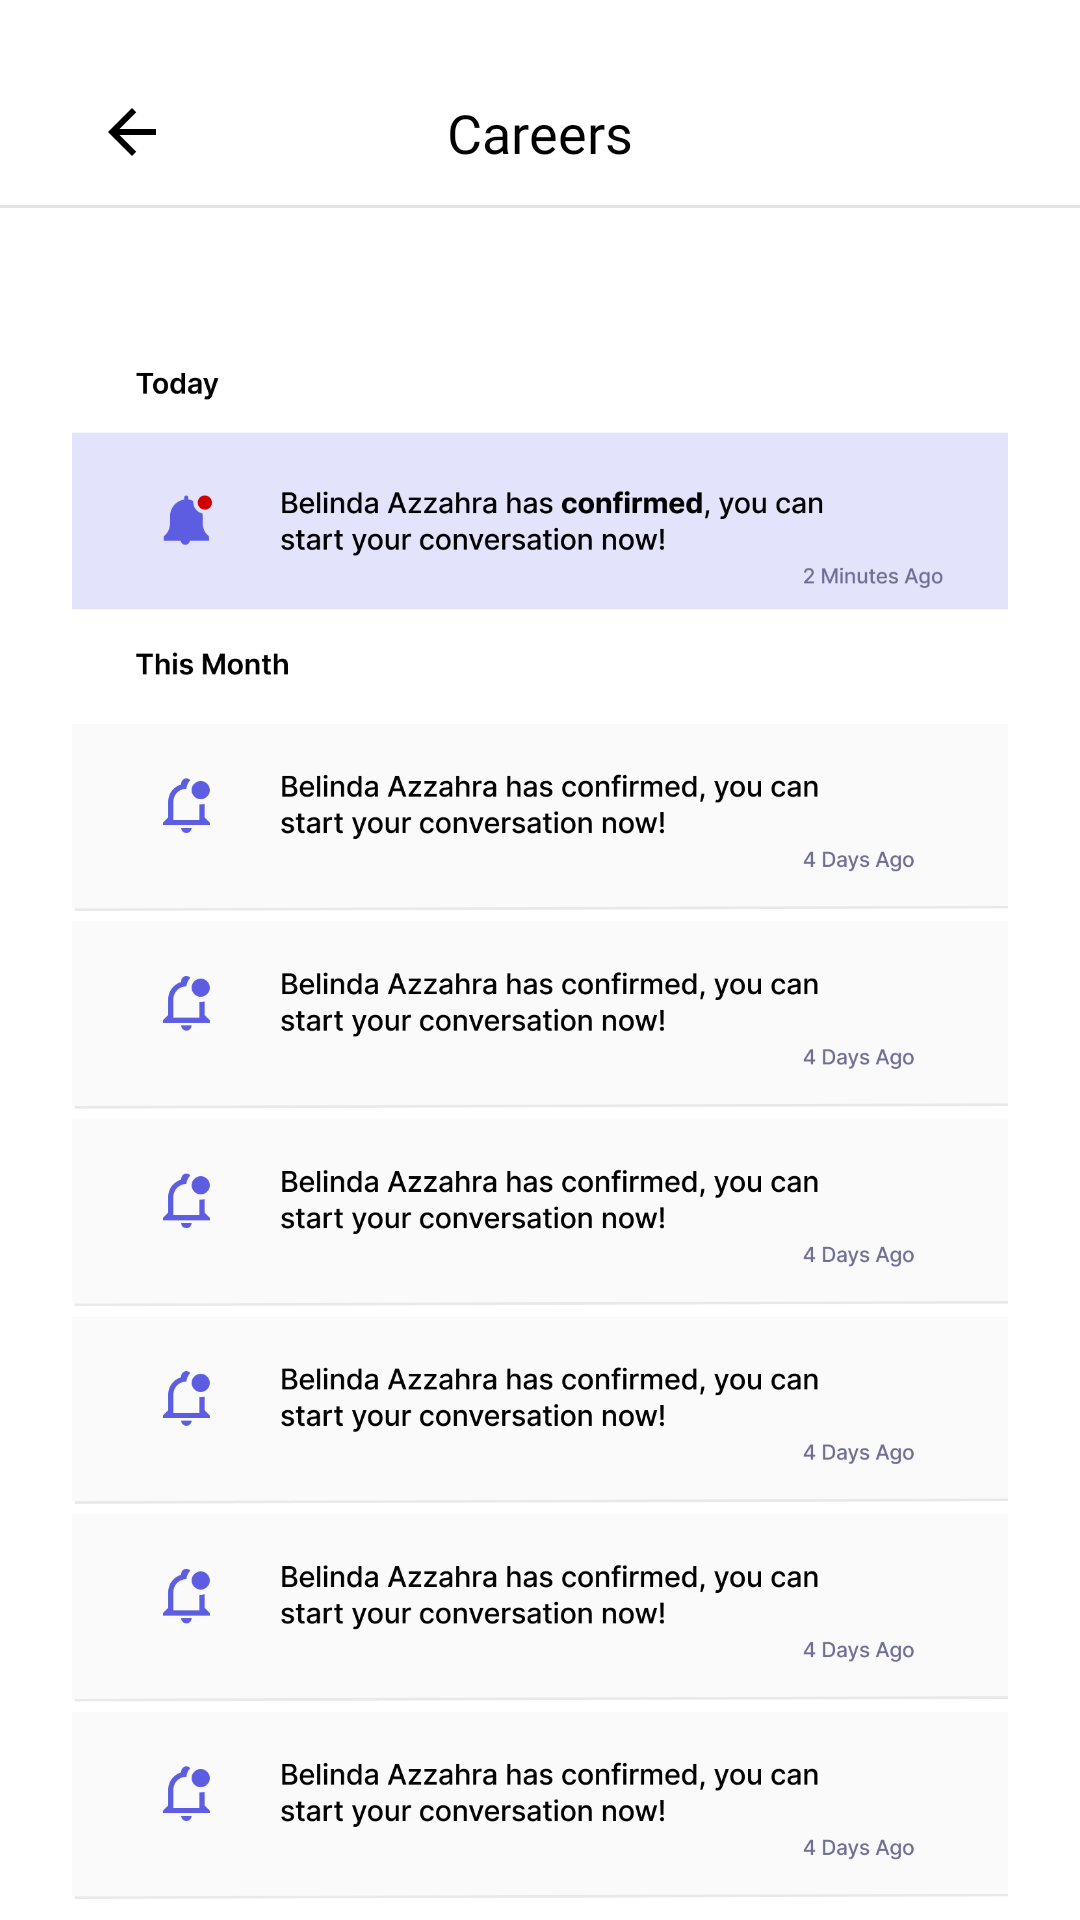

Icon bounding boxes for this 1080w x 1920h phone screenshot, format rect(x1, y1, x2, y2):
arrow back: rect(108, 108, 156, 156)
